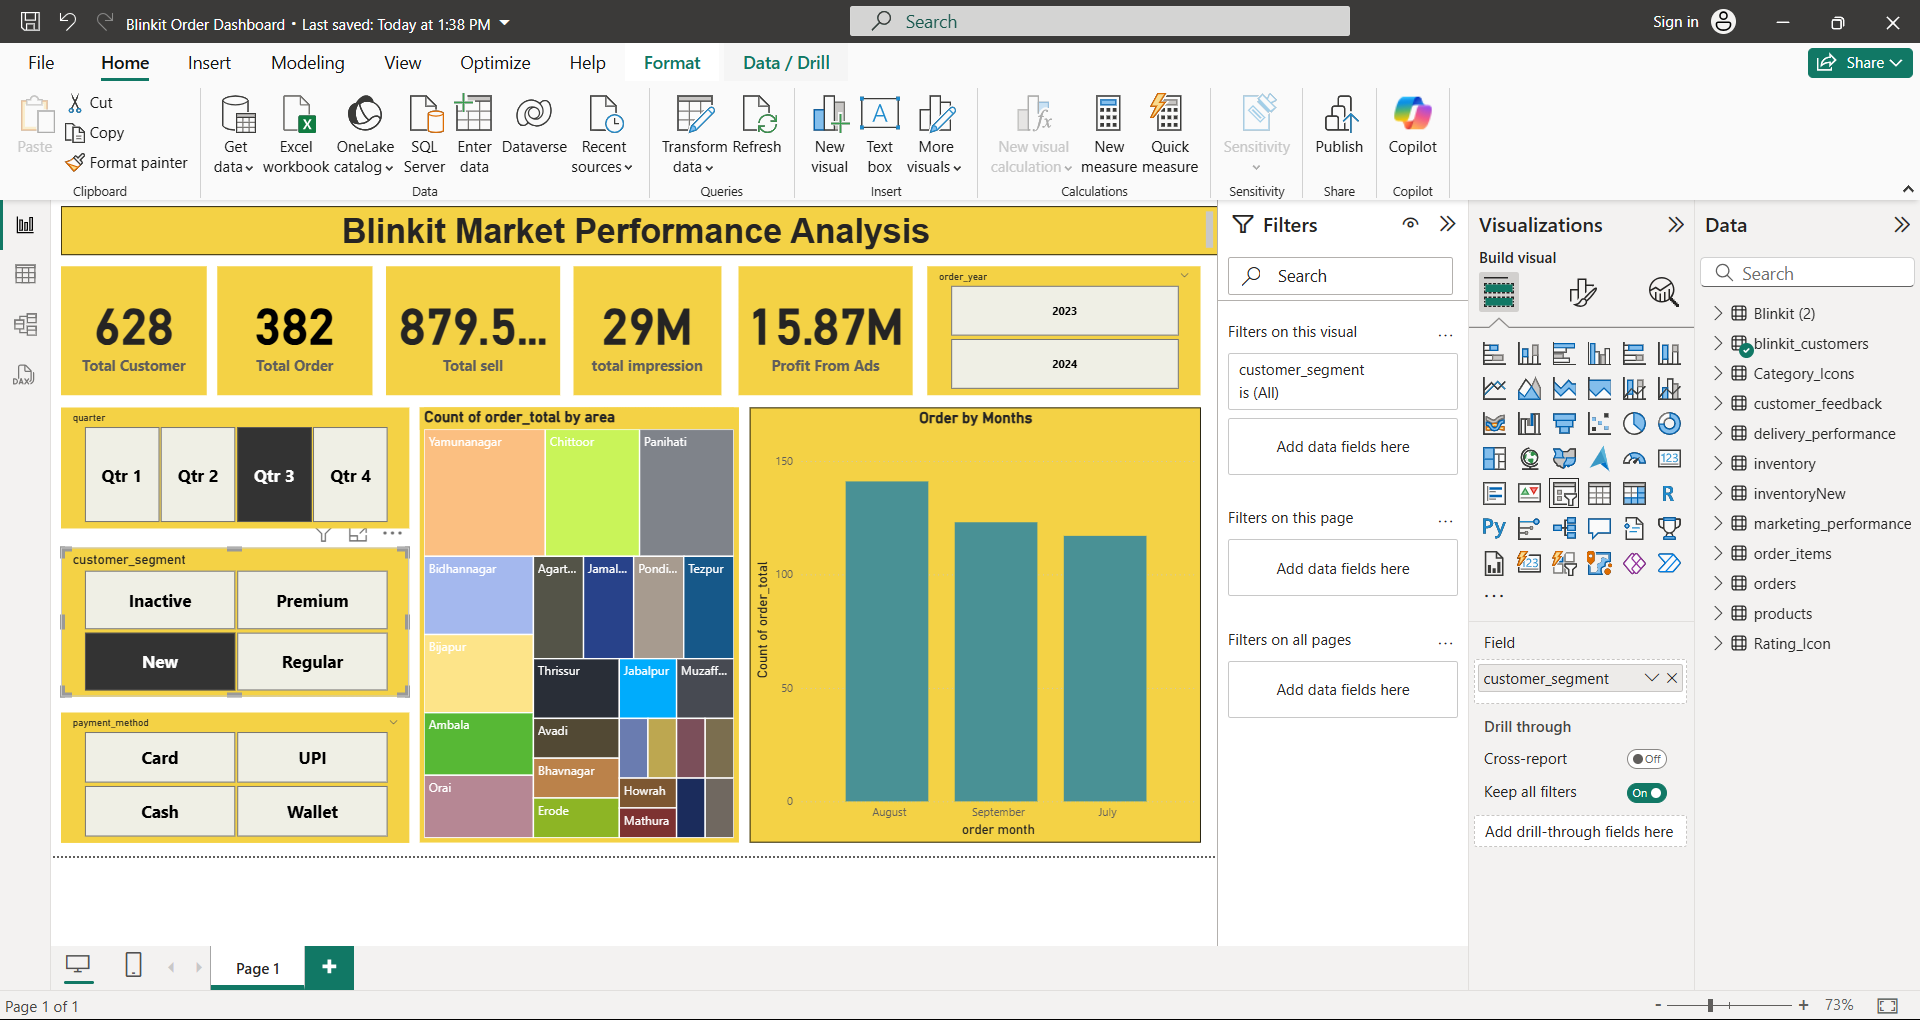

The page's visual inventory and layout, read from the dashboard file:
{"tool":"powerbi","page":{"name":"Page 1","canvas":[1280,720],"ordinal":0},"visuals":[{"type":"card","fields":{"Values":["Count(blinkit_customers.customer_id)"]},"box":[10.3,72.4,160.3,141.4],"z":0},{"type":"card","fields":{"Values":["Count(orders.order_id)"]},"box":[182.8,72.4,170.7,141.4],"z":1000},{"type":"slicer","fields":{"Values":["blinkit_customers.customer_segment"]},"box":[10.3,381,382.8,163.8],"z":2000},{"type":"card","fields":{"Values":["marketing_performance.AdTotalProfit"]},"box":[755.2,72.4,191.4,141.4],"z":3000},{"type":"slicer","fields":{"Values":["orders.order_year"]},"box":[962.1,72.4,300,141.4],"z":4000},{"type":"card","fields":{"Values":["Sum(orders.order_total)"]},"box":[367.2,72.4,191.4,141.4],"z":5000},{"type":"slicer","fields":{"Values":["orders.payment_method"]},"box":[10.3,562.1,382.8,143.1],"z":6000},{"type":"slicer","fields":{"Values":["orders.quarter"]},"box":[10.3,227.6,382.8,132.8],"z":7000},{"type":"treemap","fields":{"Group":["blinkit_customers.area"],"Values":["CountNonNull(orders.order_total)"]},"box":[405.2,227.6,350,477.6],"z":8000},{"type":"card","fields":{"Values":["marketing_performance.total impression"]},"box":[574.1,72.4,162.1,141.4],"z":9000},{"type":"textbox","box":[10.3,6.9,1270.7,53.4],"z":10000},{"type":"lineStackedColumnComboChart","title":"Order by Months","fields":{"Category":["orders.order month"],"Y":["Count(orders.order_total)"]},"box":[767.2,227.6,494.8,477.6],"z":11000}]}

Visuals, with their boxes on the page's 1280x720 design canvas (x1, y1, x2, y2). These are canvas units, not pixel positions in the 1920x1020 screenshot, which may show the page scaled, cropped or inside an application window:
card - Count(blinkit_customers.customer_id): left=10, top=72, right=171, bottom=214
card - Count(orders.order_id): left=183, top=72, right=354, bottom=214
slicer - blinkit_customers.customer_segment: left=10, top=381, right=393, bottom=545
card - marketing_performance.AdTotalProfit: left=755, top=72, right=947, bottom=214
slicer - orders.order_year: left=962, top=72, right=1262, bottom=214
card - Sum(orders.order_total): left=367, top=72, right=559, bottom=214
slicer - orders.payment_method: left=10, top=562, right=393, bottom=705
slicer - orders.quarter: left=10, top=228, right=393, bottom=360
treemap - blinkit_customers.area x CountNonNull(orders.order_total): left=405, top=228, right=755, bottom=705
card - marketing_performance.total impression: left=574, top=72, right=736, bottom=214
textbox: left=10, top=7, right=1281, bottom=60
"Order by Months" lineStackedColumnComboChart: left=767, top=228, right=1262, bottom=705
